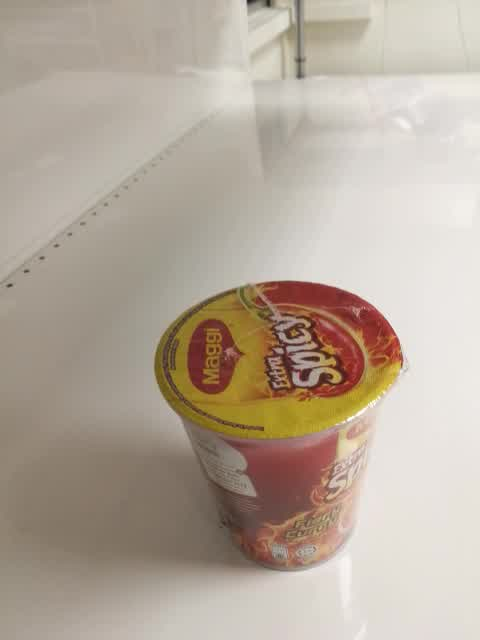maggi: (152, 280, 407, 575)
